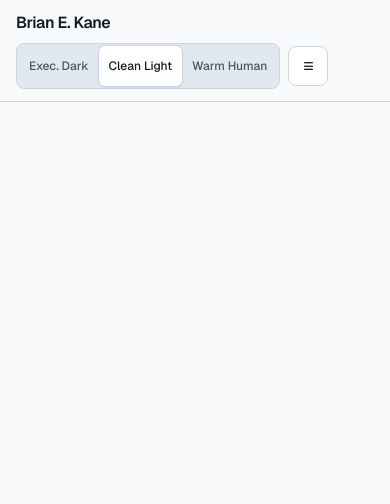
Test: Header › exposes navigation links and collapses mobile navigation after selection
Click the button named "open menu": (308,66) x1=288 y1=46 x2=328 y2=86
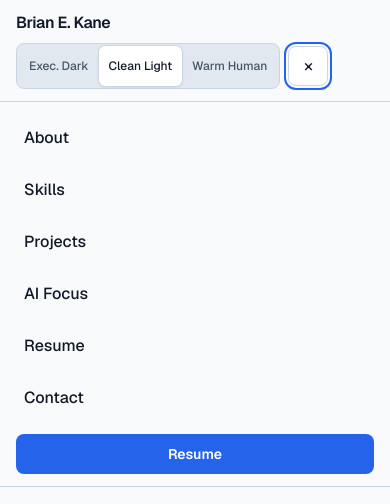
Now the button named "open menu" is expanded, box x1=288 y1=46 x2=328 y2=86
Now the navigation bar named "Mobile primary" is shown
Click the link "Skills": (44,190) x1=24 y1=179 x2=65 y2=200
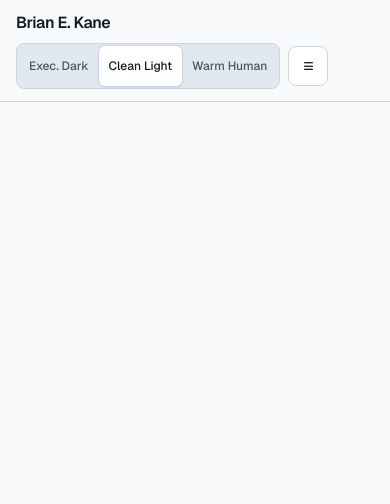
Now the button named "open menu" is collapsed, box x1=288 y1=46 x2=328 y2=86
